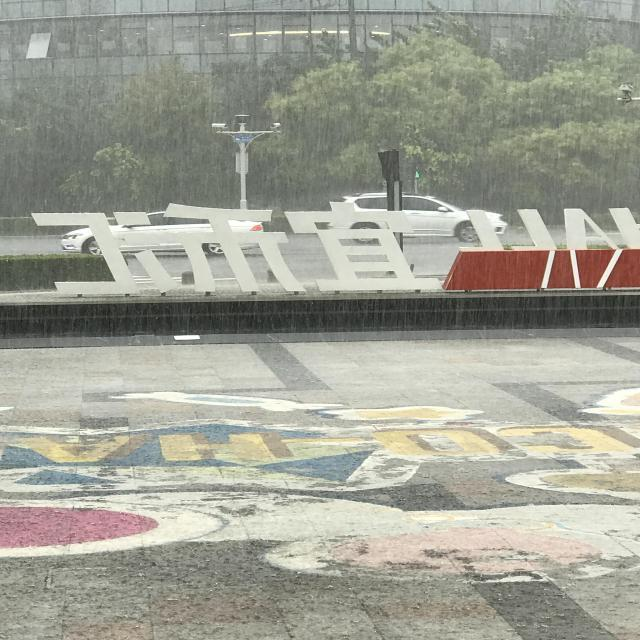car: (187, 127, 249, 317), (210, 360, 256, 586)
